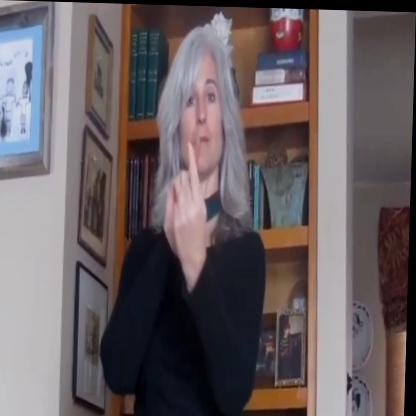NiceToMeetYou: (153, 127, 212, 282)
